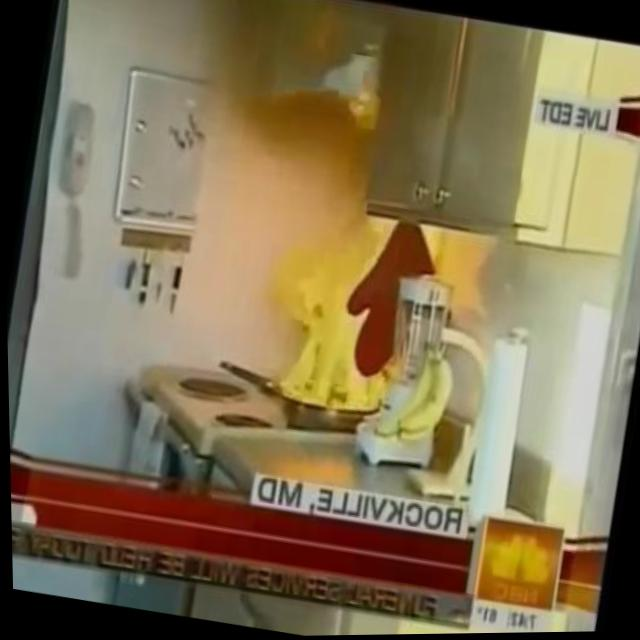fire: (263, 58, 457, 424)
